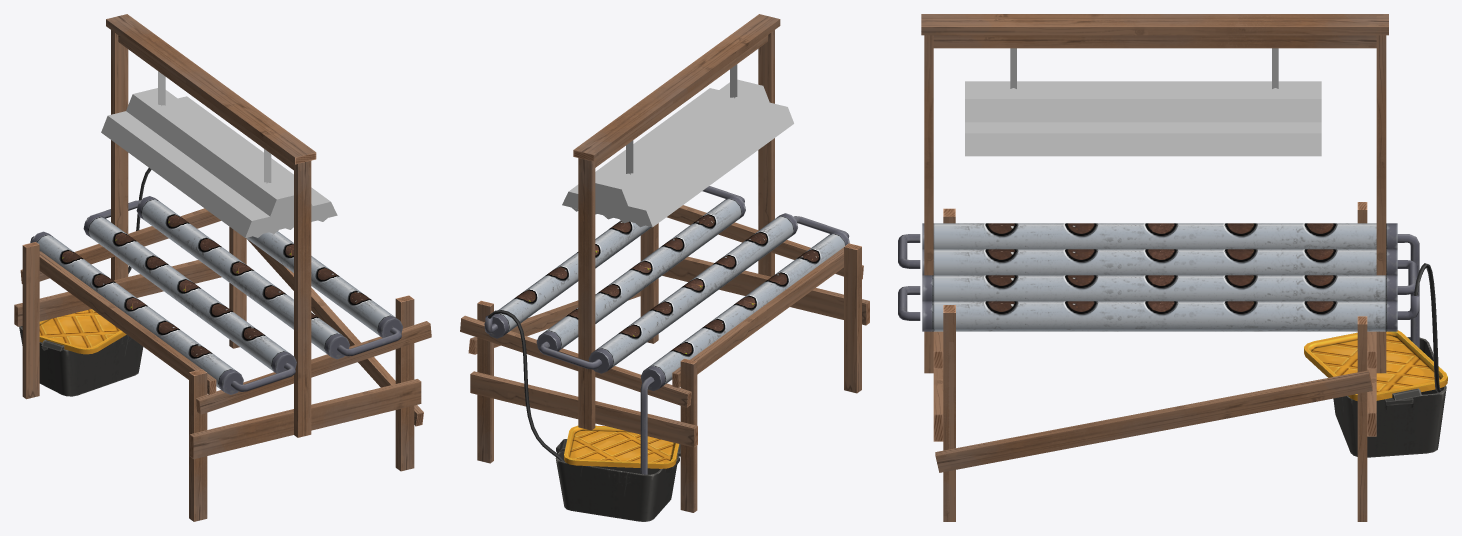
Rendered from hydroponics_H01.fbx.
The picture shows the model from 3 angles, left to right: view 1: azimuth 30°, elevation 25°; view 2: azimuth 150°, elevation 25°; view 3: azimuth 270°, elevation 25°; orthographic projection. The views are drawn at different scales.
Visible parts, largest first — view 1: hydroponics_H01, hydroponics_H01_lamp; view 2: hydroponics_H01, hydroponics_H01_lamp; view 3: hydroponics_H01, hydroponics_H01_lamp.
Boxes of the visible parts, left/top/right/bottom form: hydroponics_H01: left=14, top=168, right=431, bottom=521; hydroponics_H01_lamp: left=101, top=14, right=337, bottom=437; hydroponics_H01: left=460, top=186, right=869, bottom=521; hydroponics_H01_lamp: left=562, top=14, right=793, bottom=430; hydroponics_H01: left=898, top=202, right=1447, bottom=521; hydroponics_H01_lamp: left=921, top=14, right=1388, bottom=373.
Bounding box in the file's own units: 1.43 × 2 × 2.31.
